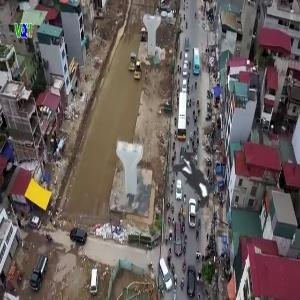drone: (110, 94, 280, 264)
